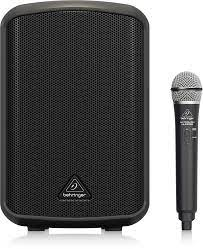microphone: (167, 71, 203, 235)
speaker: (1, 2, 155, 232)
